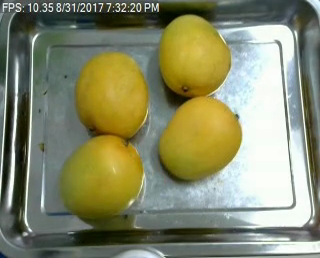Mango: (60, 134, 144, 218), (158, 95, 240, 179), (75, 52, 147, 138), (158, 14, 231, 95)
